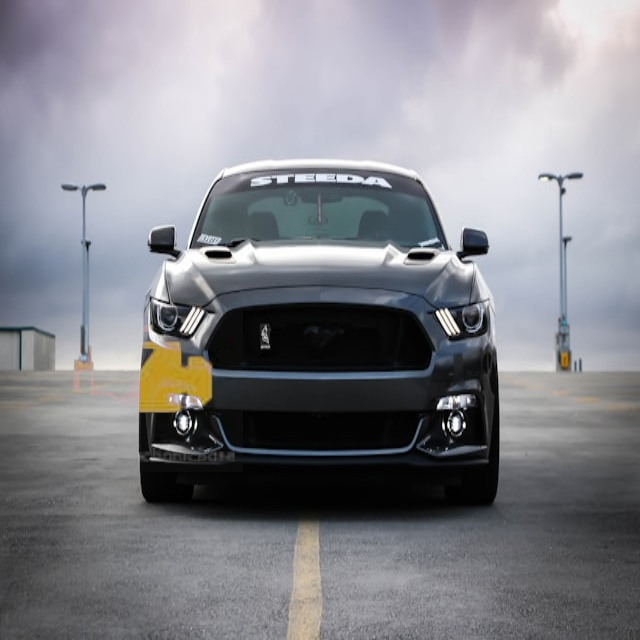symbol: (38, 267, 243, 472)
